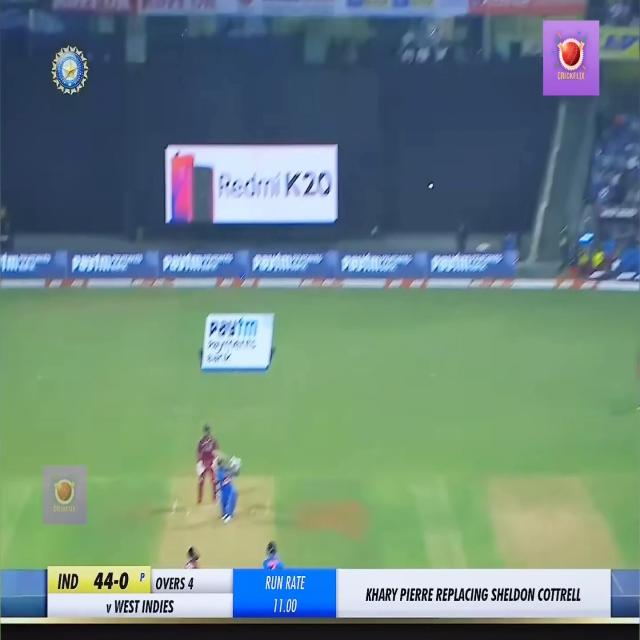fully_visible: (159, 250, 227, 294), (251, 248, 322, 284), (340, 249, 402, 289), (205, 311, 269, 348), (432, 250, 477, 280), (70, 251, 126, 273)
